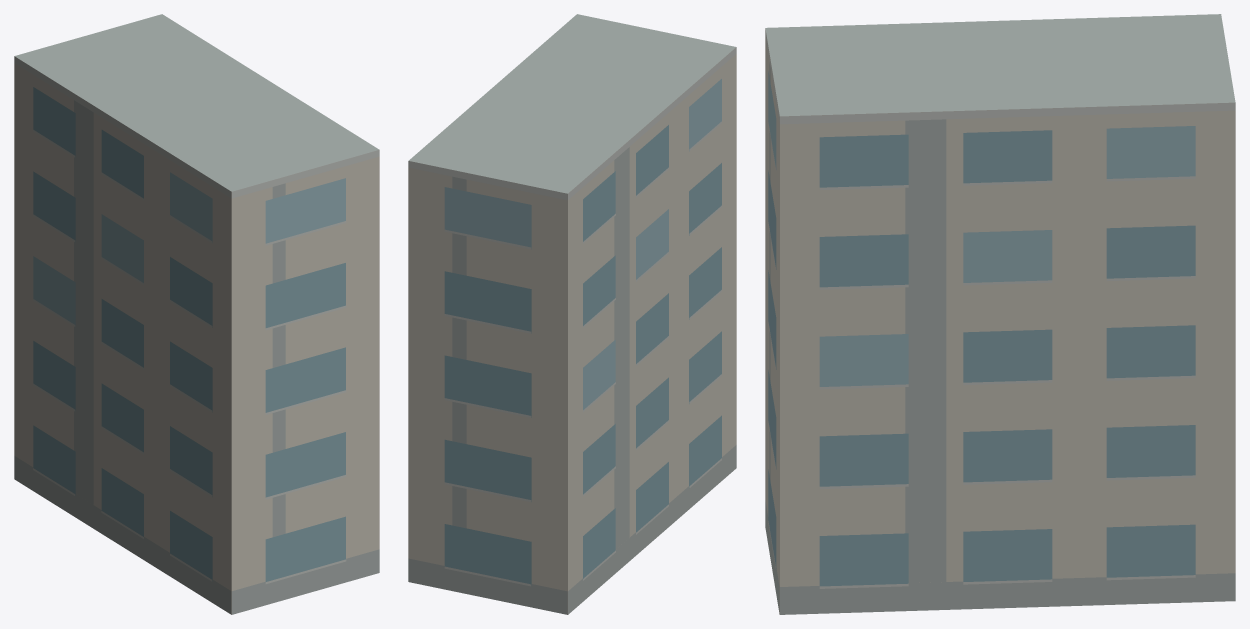
Rendered from survey-upis-32862642.glb.
The picture shows the model from 3 angles, left to right: view 1: azimuth 30°, elevation 25°; view 2: azimuth 150°, elevation 25°; view 3: azimuth 270°, elevation 25°; orthographic projection. The views are drawn at different scales.
Parts seen in each view (by area): view 1: survey-upis-32862642.tmp; view 2: survey-upis-32862642.tmp; view 3: survey-upis-32862642.tmp.
Boxes of the visible parts, box(x1,y1,x2,y2) form: survey-upis-32862642.tmp: box(14, 14, 379, 614); survey-upis-32862642.tmp: box(408, 14, 736, 614); survey-upis-32862642.tmp: box(765, 14, 1235, 614).
Size of the model in its own units: 6.7 by 15.18 by 12.99.
